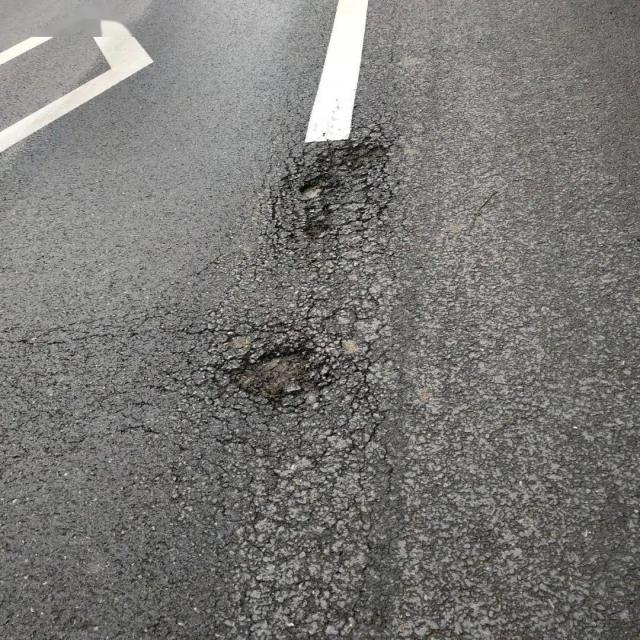Pothole: (290, 142, 391, 251), (229, 342, 335, 406)
